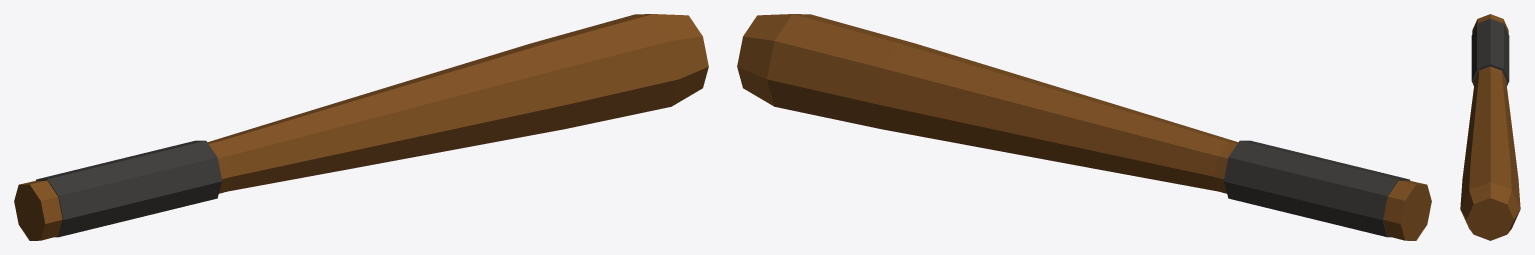
Rendered from held_club.glb.
The picture shows the model from 3 angles, left to right: view 1: azimuth 30°, elevation 25°; view 2: azimuth 150°, elevation 25°; view 3: azimuth 270°, elevation 25°; orthographic projection. The views are drawn at different scales.
Parts seen in each view (by area): view 1: club, grip; view 2: club, grip; view 3: club, grip.
Boxes of the visible parts, x1,y1,x2,y2 form: club: (14,14,708,240); grip: (36,140,222,237); club: (737,14,1431,240); grip: (1223,140,1410,237); club: (1460,14,1520,240); grip: (1471,18,1509,85).
Size of the model in its own units: 0.56 by 0.0756 by 0.0756.
